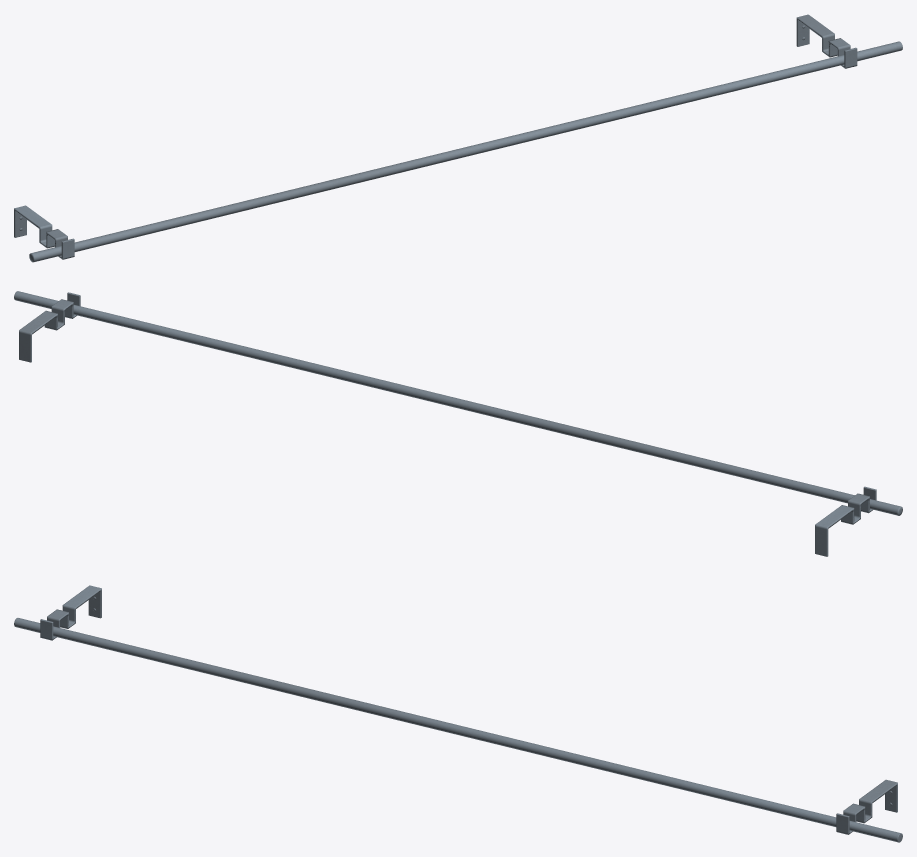
Rendered from curtain_rod5.glb.
3 renders of one model, top to bottom at view 1: azimuth 30°, elevation 25°; view 2: azimuth 150°, elevation 25°; view 3: azimuth 330°, elevation 25°, orthographic.
Visible parts, largest first — view 1: Curtain_Rod5; view 2: Curtain_Rod5; view 3: Curtain_Rod5.
Boxes of the visible parts, x1=… form: Curtain_Rod5: x1=14, y1=14, x2=902, y2=262; Curtain_Rod5: x1=14, y1=291, x2=902, y2=556; Curtain_Rod5: x1=14, y1=585, x2=902, y2=842.
Size of the model in its own units: 1.32 by 0.0443 by 0.1282.
Materials: 1 (1 with a texture image).
